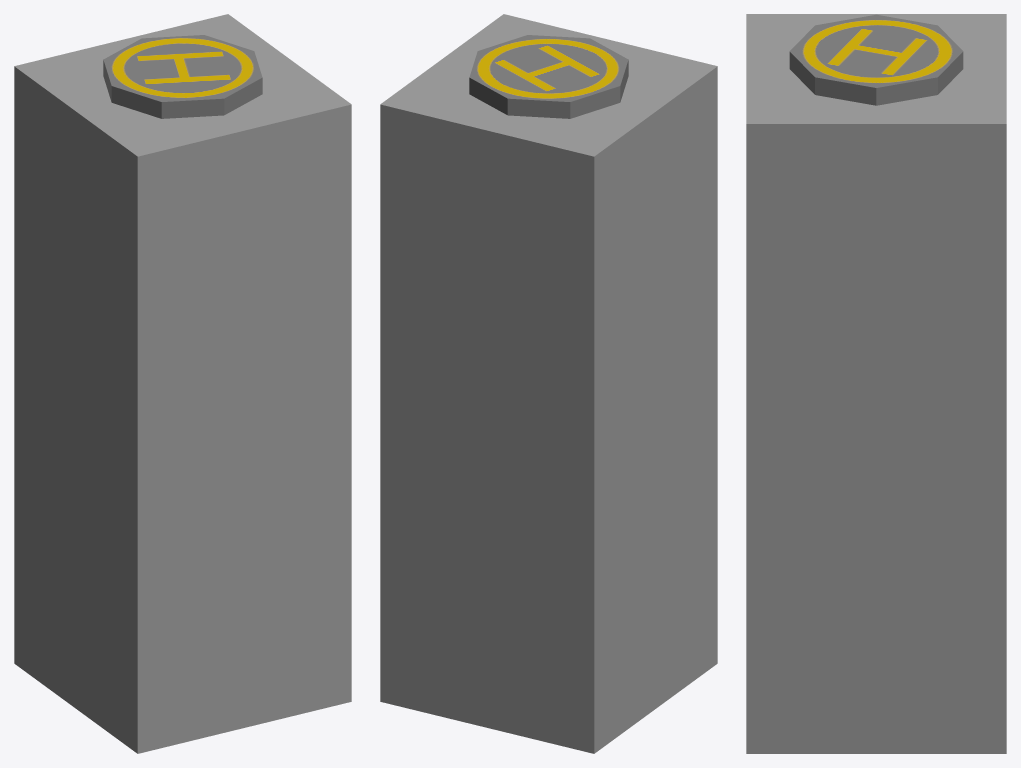
File: tile_house_skyscraper.fbx
3 views of the same model, side by side, from view 1: azimuth 30°, elevation 25°; view 2: azimuth 150°, elevation 25°; view 3: azimuth 270°, elevation 25° (orthographic). The views are drawn at different scales.
Visible parts, largest first — view 1: Skyscraper, Helipad; view 2: Skyscraper, Helipad; view 3: Skyscraper, Helipad.
Boxes of the visible parts, x1=… form: Skyscraper: x1=14, y1=14, x2=351, y2=753; Helipad: x1=103, y1=35, x2=262, y2=118; Skyscraper: x1=380, y1=14, x2=717, y2=753; Helipad: x1=469, y1=35, x2=628, y2=118; Skyscraper: x1=746, y1=14, x2=1006, y2=753; Helipad: x1=789, y1=14, x2=963, y2=105.
Bounding box in the file's own units: 1.2 × 3.29 × 1.2.
2 materials, 1 textured.
